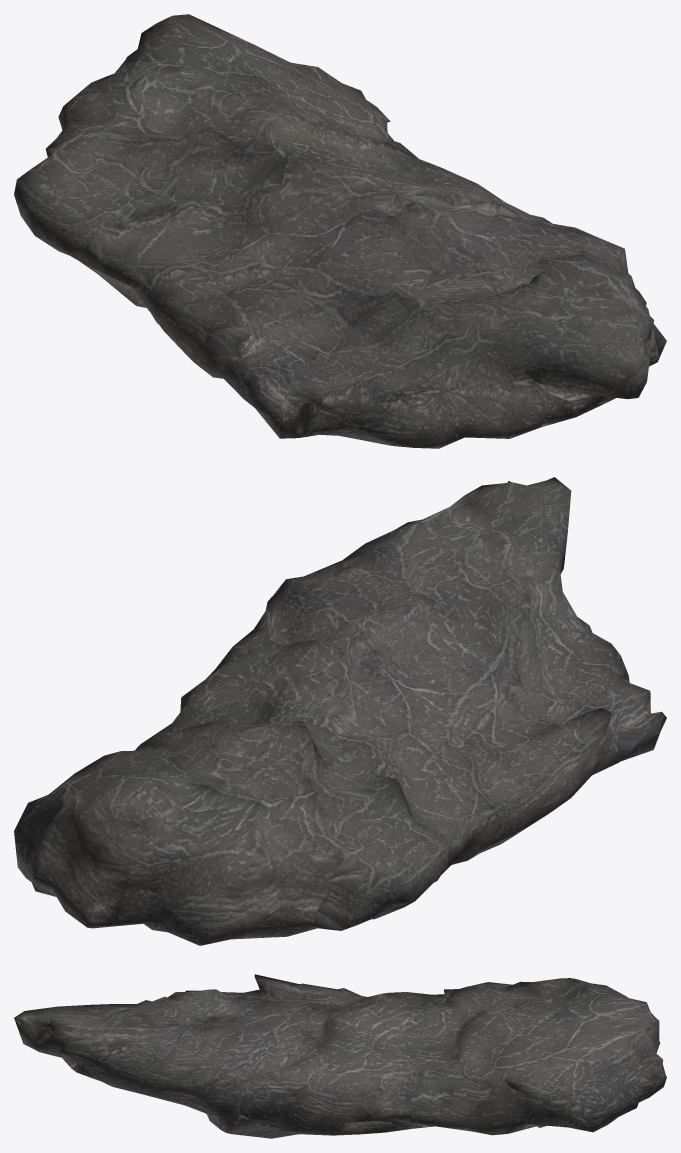
The model's file is Sharp_rock_03_GREY.fbx.
3 views of the same model, one above another, from view 1: azimuth 30°, elevation 25°; view 2: azimuth 150°, elevation 25°; view 3: azimuth 270°, elevation 25° (orthographic). The views are drawn at different scales.
Visible parts, largest first — view 1: Sharp_rock_03_GREY; view 2: Sharp_rock_03_GREY; view 3: Sharp_rock_03_GREY.
Boxes of the visible parts, box(x1,y1,x2,y2) form: Sharp_rock_03_GREY: box(14, 14, 666, 448); Sharp_rock_03_GREY: box(14, 477, 666, 945); Sharp_rock_03_GREY: box(14, 974, 666, 1138).
Bounding box in the file's own units: 7.07 × 3.02 × 15.69.
Materials: 1 (1 with a texture image).
